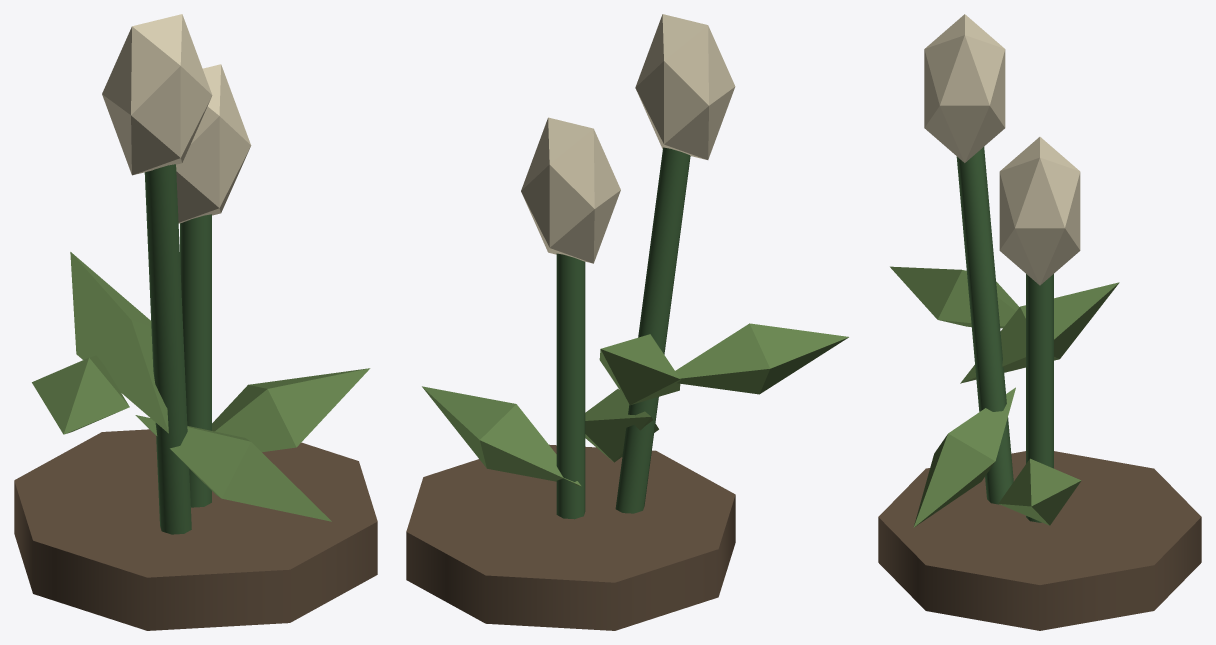
Rendered from plant-moonflower-2.glb.
3 views of the same model, side by side, from view 1: azimuth 30°, elevation 25°; view 2: azimuth 150°, elevation 25°; view 3: azimuth 270°, elevation 25° (orthographic). The views are drawn at different scales.
Visible parts, largest first — view 1: plant-moonflower-2-visual; view 2: plant-moonflower-2-visual; view 3: plant-moonflower-2-visual.
Boxes of the visible parts, left/top/right/bottom form: plant-moonflower-2-visual: left=14, top=14, right=377, bottom=630; plant-moonflower-2-visual: left=406, top=14, right=848, bottom=630; plant-moonflower-2-visual: left=878, top=14, right=1201, bottom=630.
Bounding box in the file's own units: 0.3828 × 0.55 × 0.32.
